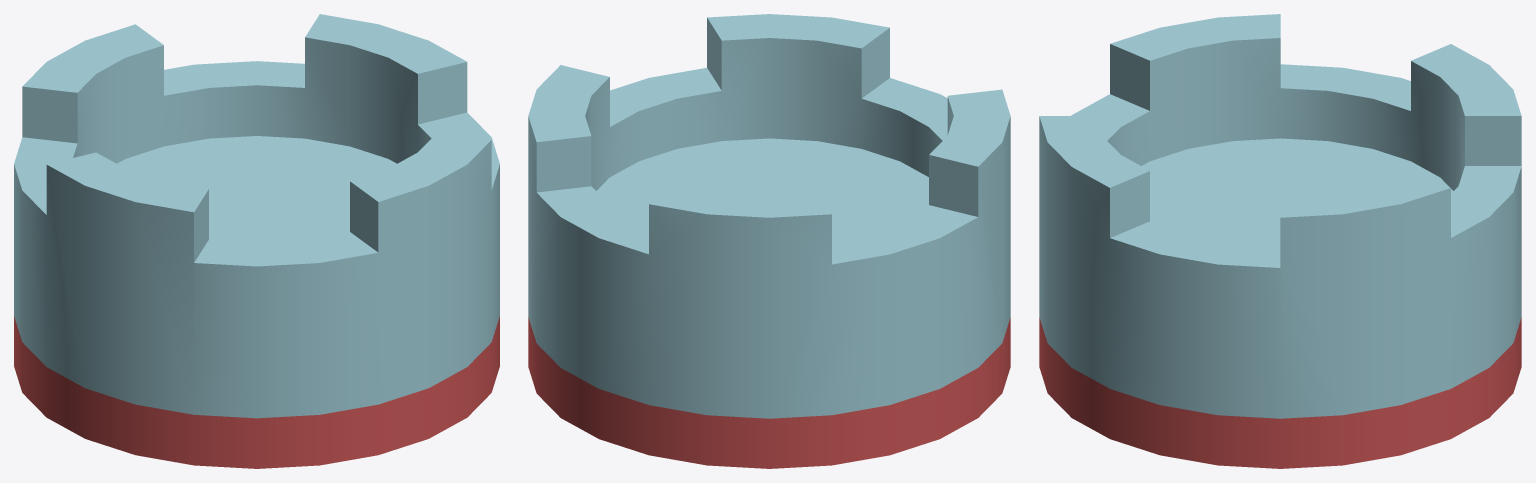
The model's file is towerRound_topA.fbx.
3 views of the same model, side by side, from view 1: azimuth 30°, elevation 25°; view 2: azimuth 150°, elevation 25°; view 3: azimuth 270°, elevation 25° (orthographic).
Parts seen in each view (by area): view 1: towerRound_topA; view 2: towerRound_topA; view 3: towerRound_topA.
Part boxes in pixels (x1,y1,x2,y2): towerRound_topA: (14, 14, 499, 468); towerRound_topA: (528, 14, 1010, 468); towerRound_topA: (1039, 14, 1521, 468).
Bounding box in the file's own units: 8.7 × 5 × 8.7.
